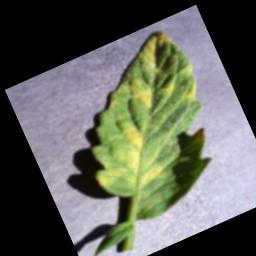Leaf_Mold: (86, 22, 206, 135), (81, 121, 167, 205)
